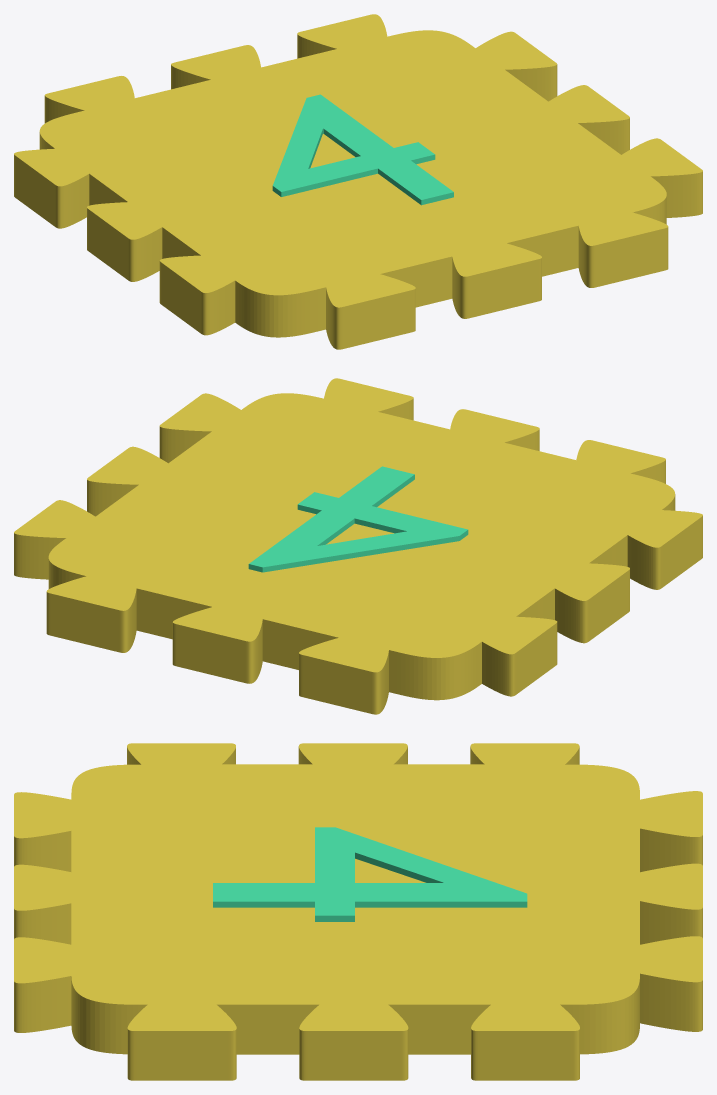
File: puzzel_4_update.fbx
3 views of the same model, one above another, from view 1: azimuth 30°, elevation 25°; view 2: azimuth 150°, elevation 25°; view 3: azimuth 270°, elevation 25° (orthographic). The views are drawn at different scales.
Visible parts, largest first — view 1: Text.002; view 2: Text.002; view 3: Text.002.
Part boxes in pixels (x1=…): Text.002: x1=14, y1=14, x2=702, y2=349; Text.002: x1=14, y1=378, x2=702, y2=714; Text.002: x1=14, y1=743, x2=702, y2=1080.
Size of the model in its own units: 239 by 21.66 by 242.
